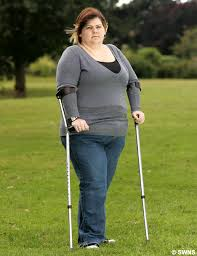crutches: (55, 7, 151, 248)
